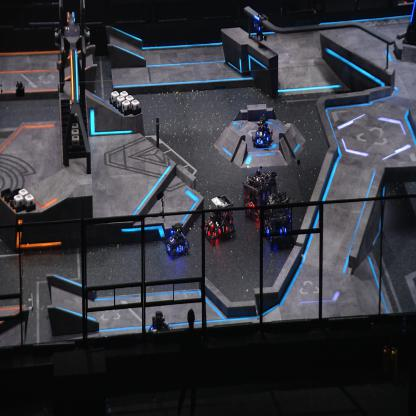car: (258, 189, 294, 251), (242, 166, 278, 221), (201, 193, 234, 244), (164, 222, 190, 258), (250, 113, 274, 149)
